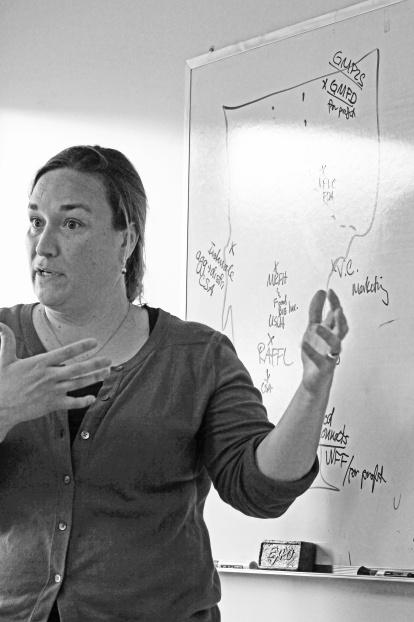Whiteboard: (179, 0, 413, 581)
